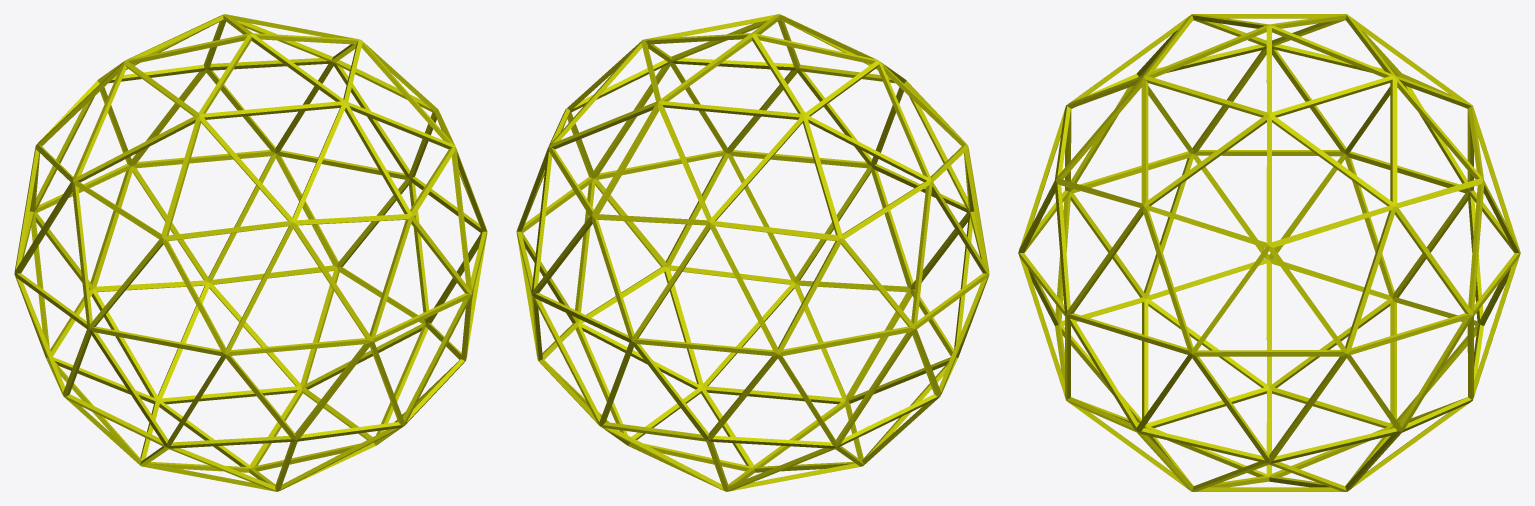
File: Atomv3.fbx
3 views of the same model, side by side, from view 1: azimuth 30°, elevation 25°; view 2: azimuth 150°, elevation 25°; view 3: azimuth 270°, elevation 25° (orthographic). The views are drawn at different scales.
Parts seen in each view (by area): view 1: features-3; view 2: features-3; view 3: features-3.
Part boxes in pixels (<box>): features-3: <box>14,14,487,491</box>; features-3: <box>516,14,989,491</box>; features-3: <box>1018,14,1520,491</box>.
Bounding box in the file's own units: 9.7 × 10.2 × 10.2.
